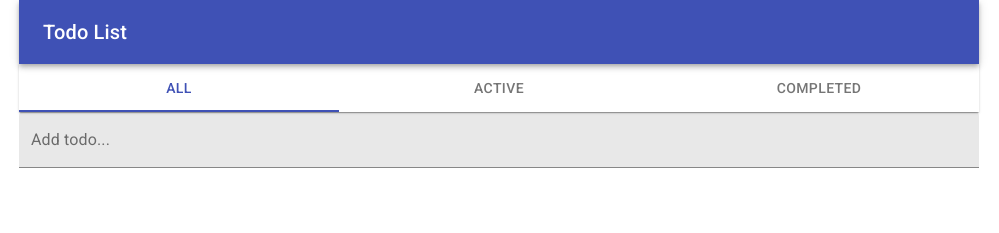
Scenario: Add todo item › cannot add todo item in tab Completed
// Change to tab "completed"
Click the tab "Completed" at (819, 88), box [659,64,979,112]
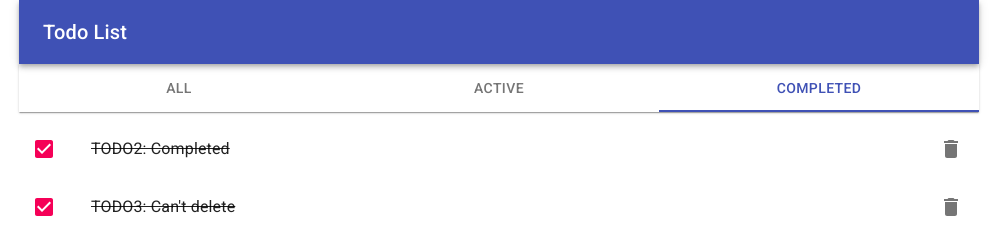
Expected: the label labelled "Add todo..." is gone
